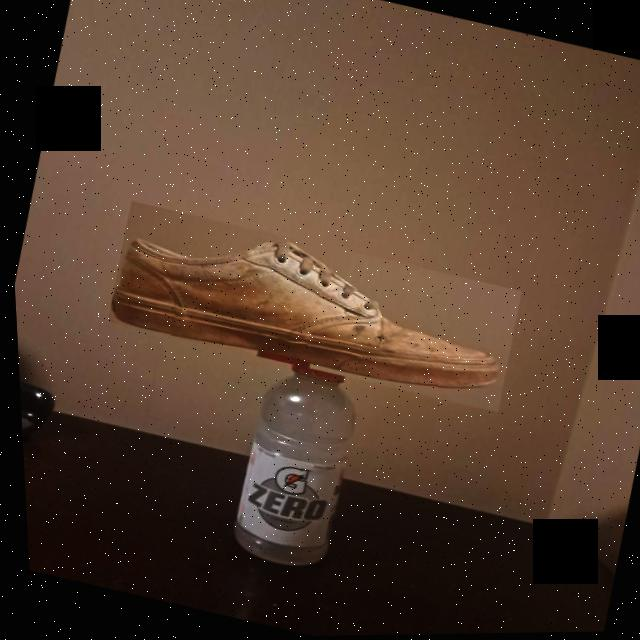shoe: (99, 197, 523, 417)
